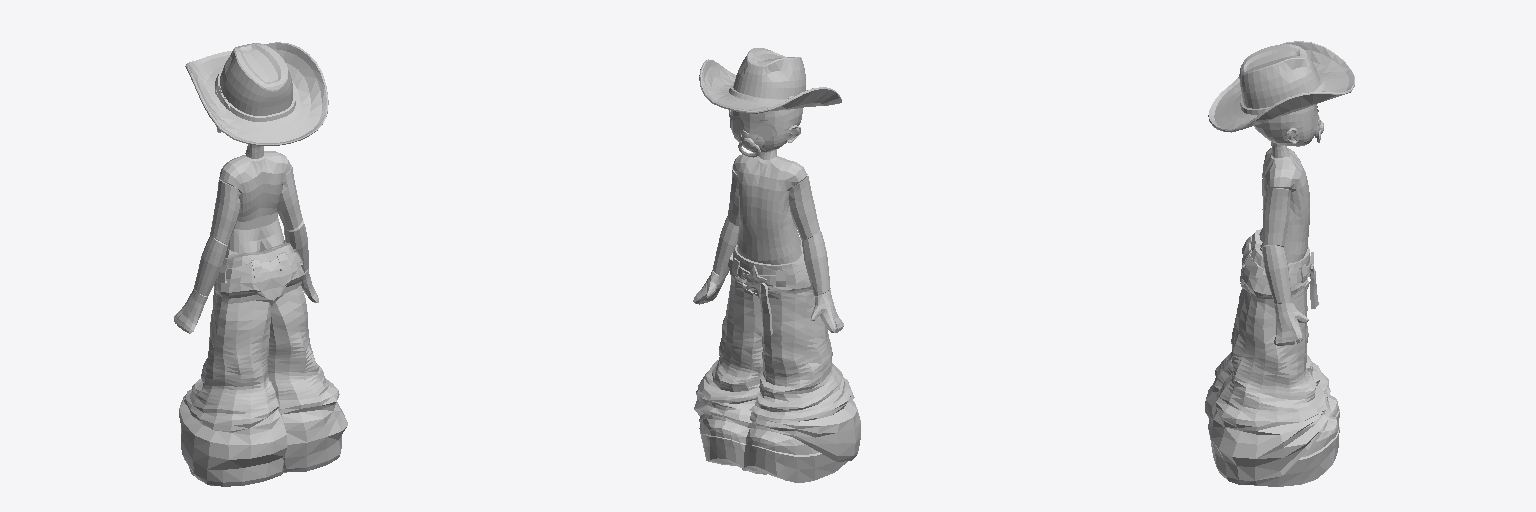
File: bebote2.obj
3 views of the same model, side by side, from view 1: azimuth 30°, elevation 25°; view 2: azimuth 150°, elevation 25°; view 3: azimuth 270°, elevation 25° (orthographic).
Visible parts, largest first — view 1: Handle1, Handle3, Djbebote2, Djbebote4, Djbebote3, Djbebote9, Djbebote8, Djbebote7; view 2: Handle1, Handle3, Djbebote2, Djbebote5, Djbebote4, Djbebote3, Djbebote7, Djbebote8, Djbebote6; view 3: Handle1, Handle3, Djbebote2, Djbebote5, Djbebote9, Djbebote7, Djbebote6.
Part boxes in pixels (x1,y1,x2,y2): Handle1: (179,242,347,486); Handle3: (185,42,328,145); Djbebote2: (219,151,290,252); Djbebote4: (210,179,240,244); Djbebote3: (194,236,227,296); Djbebote9: (277,165,302,230); Djbebote8: (174,289,207,333); Djbebote7: (284,221,308,272); Handle1: (694,238,860,482); Handle3: (699,48,841,113); Djbebote2: (733,153,807,260); Djbebote5: (729,108,802,159); Djbebote4: (789,176,819,240); Djbebote3: (802,231,830,295); Djbebote7: (713,216,738,275); Djbebote8: (811,290,843,332); Djbebote6: (693,270,726,304); Handle1: (1205,229,1339,486); Handle3: (1208,41,1354,132); Djbebote2: (1259,148,1309,254); Djbebote5: (1254,104,1318,157); Djbebote9: (1263,188,1290,246); Djbebote7: (1262,245,1291,303); Djbebote6: (1274,303,1308,345).
Size of the model in its own units: 2.7 by 7.01 by 2.34.